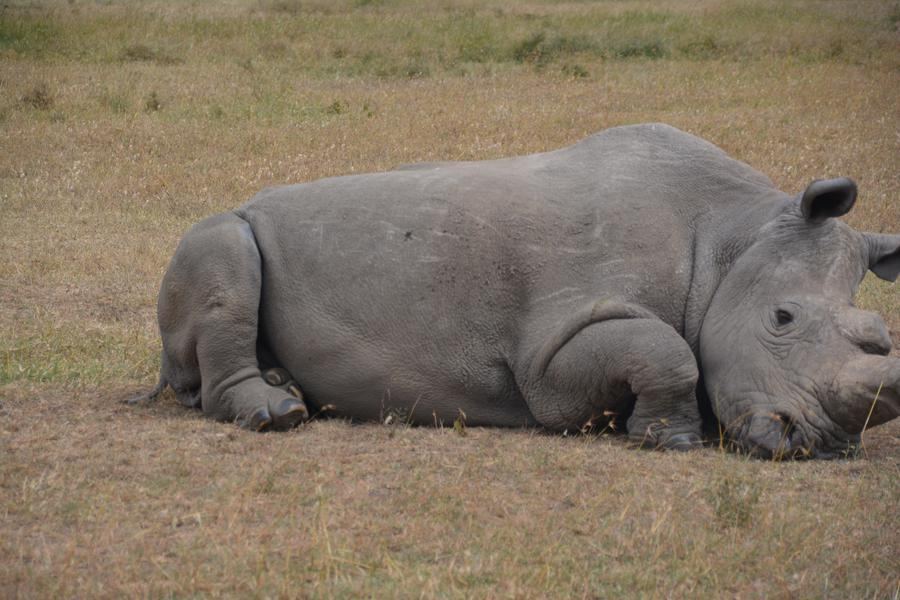rhino: (178, 125, 850, 466)
